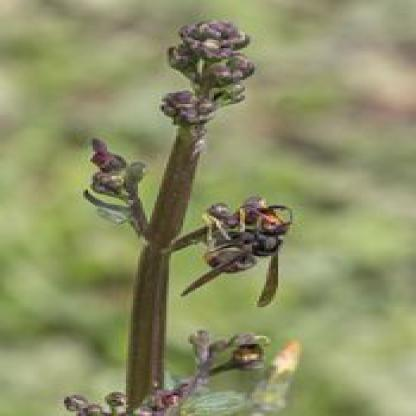Asian Hornet: (197, 205, 288, 309)
